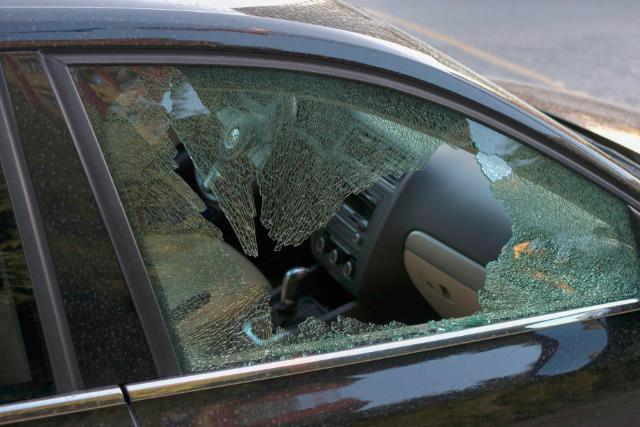Door: (74, 57, 640, 427)
